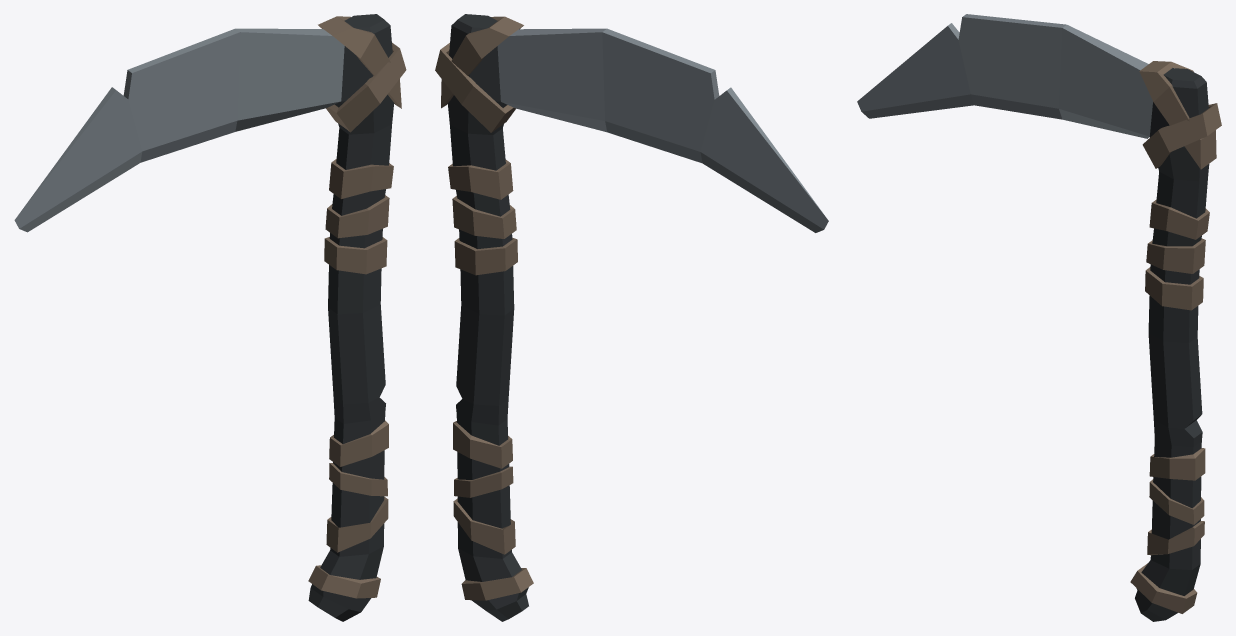
Rendered from SmallSythe.glb.
The picture shows the model from 3 angles, left to right: view 1: azimuth 30°, elevation 25°; view 2: azimuth 150°, elevation 25°; view 3: azimuth 330°, elevation 25°; orthographic projection. The views are drawn at different scales.
Parts seen in each view (by area): view 1: SmallSythe_B; view 2: SmallSythe_B; view 3: SmallSythe_B.
Part boxes in pixels (box(x1,y1,x2,y2)): SmallSythe_B: box(14, 14, 406, 621); SmallSythe_B: box(435, 14, 828, 621); SmallSythe_B: box(857, 14, 1221, 621).
Size of the model in its own units: 0.4406 by 0.6708 by 0.0597.
1 material, 1 textured.
